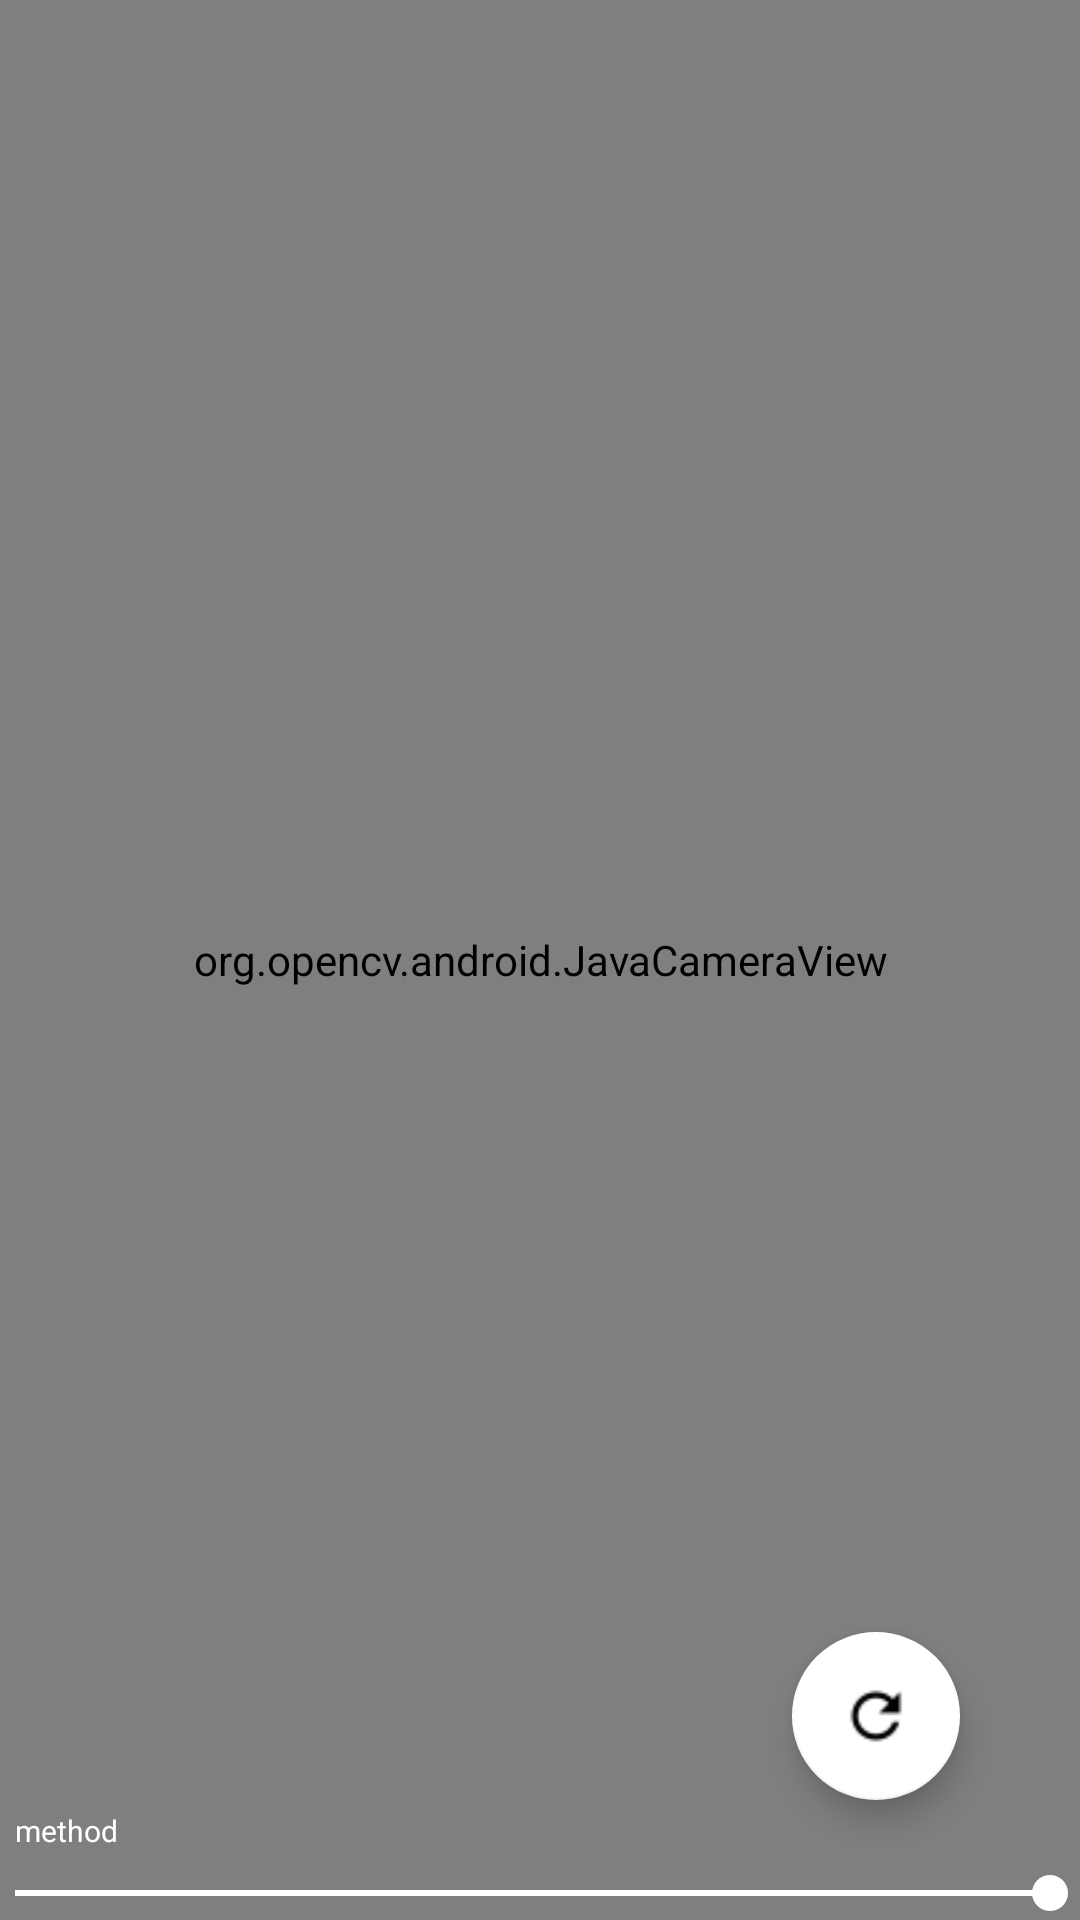

Icons on this 1080 x 1920 Android screen, each with the point to tap as (x=x, y=y):
refresh: (x=876, y=1716)
